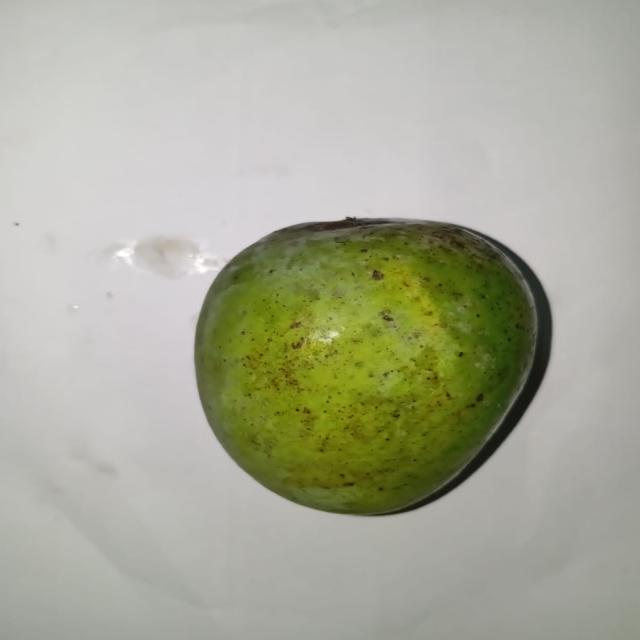rotten_mango: (189, 216, 542, 514)
